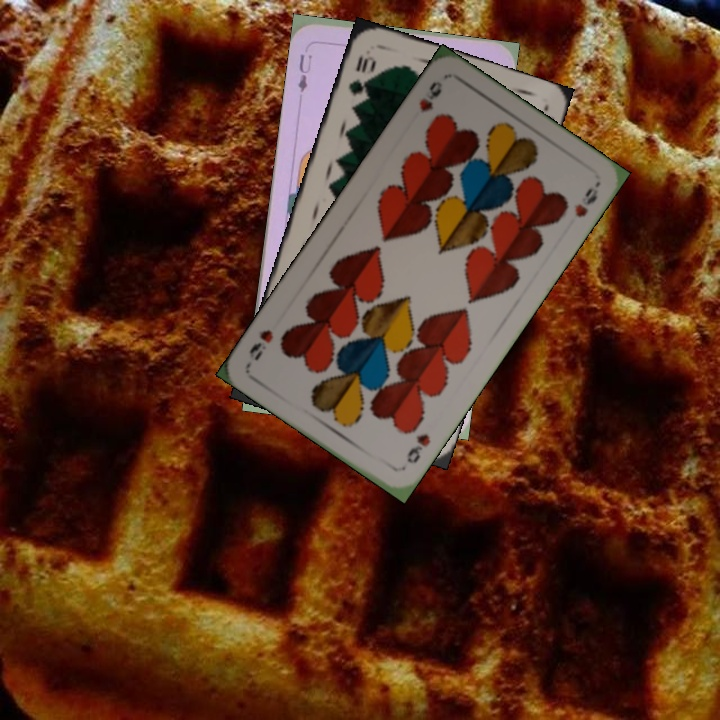EU: (294, 50, 315, 95)
G10: (344, 51, 378, 99)
H9: (403, 429, 434, 467), (415, 77, 445, 116)
